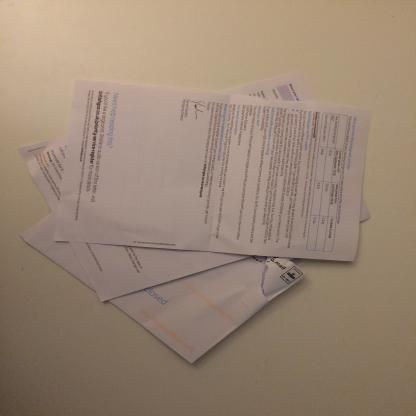trash: (5, 70, 390, 373)
